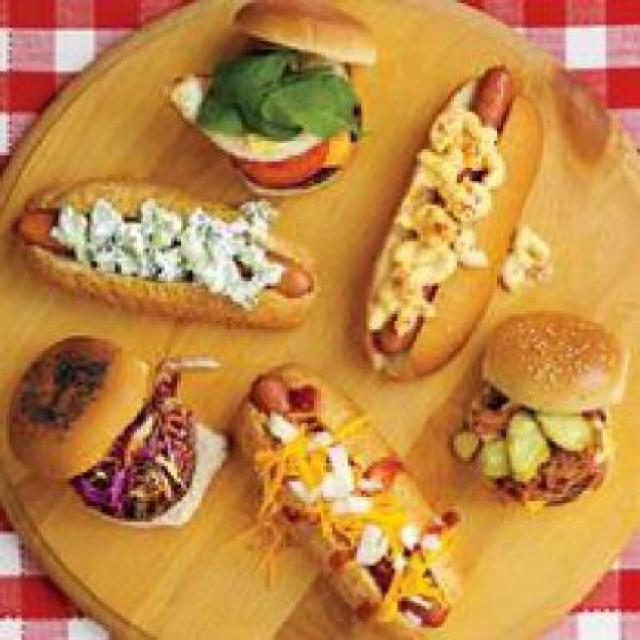caprese salad: (168, 52, 354, 180)
hamburger: (2, 326, 221, 528), (466, 308, 622, 506)
hot dog: (242, 358, 466, 636), (15, 189, 320, 308)
macaroni and cheese: (400, 102, 475, 342)
